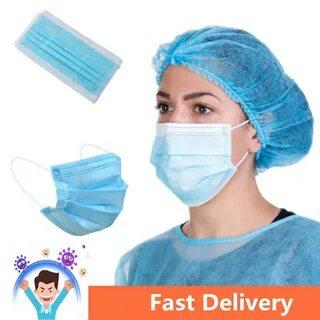hairnet: (155, 26, 320, 157)
mask: (20, 1, 120, 110), (142, 113, 243, 210), (39, 138, 126, 230)
